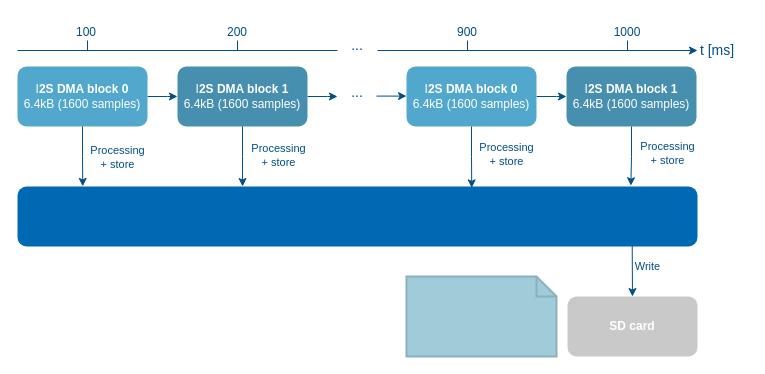
The diagram is 765 pixels wide and 374 high, and some of its shapes have lost their labels. Each missing label, with the box of its shape:
Store block 0 32kB (16000 samples): (17, 186, 697, 246)
Store block 0 full. Swap store block and write to SD: (405, 275, 557, 357)
